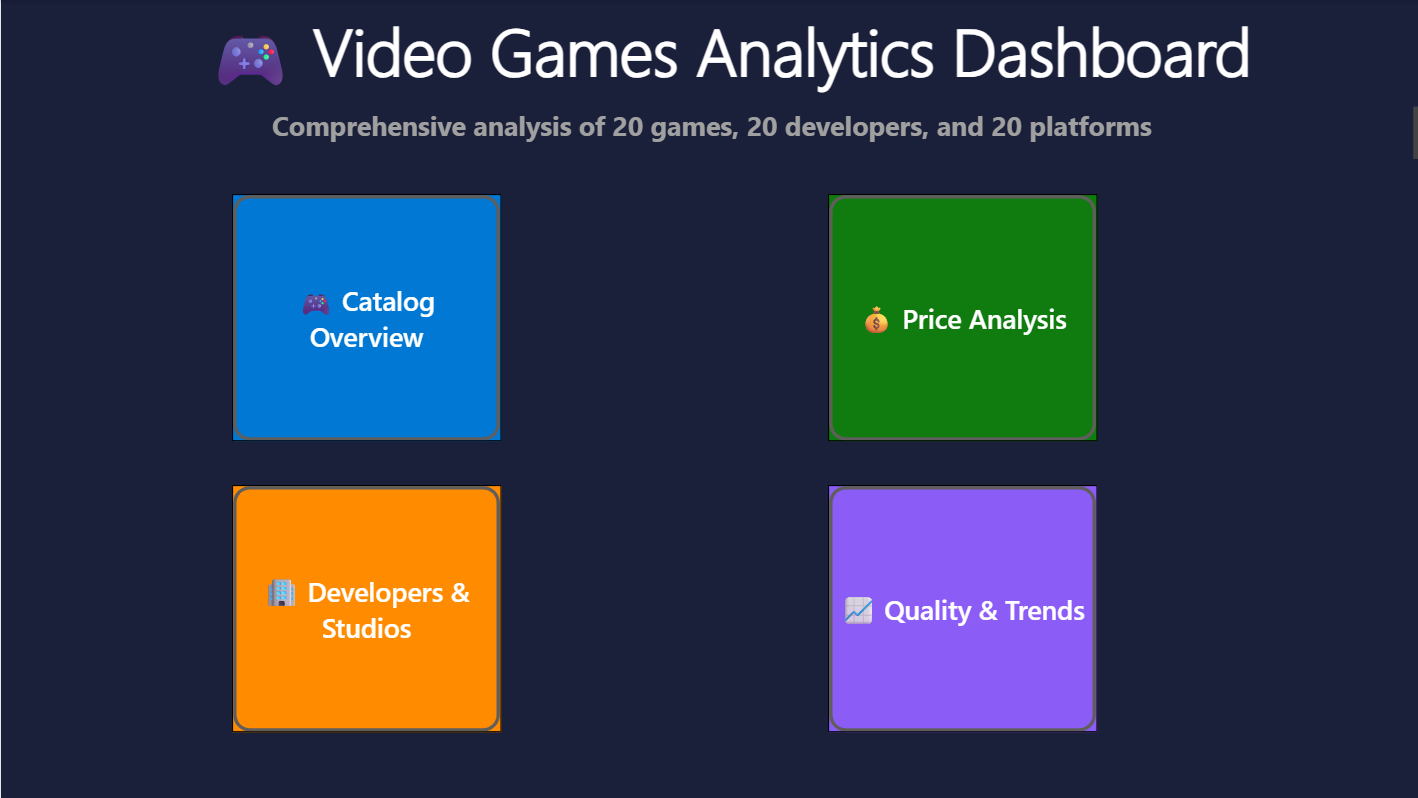

What the dashboard file says about the page in this screenshot:
{"tool":"powerbi","page":{"name":"HOME","canvas":[1280,720],"ordinal":0},"visuals":[{"type":"textbox","box":[9.6,0,1270.7,90.6],"z":0},{"type":"textbox","box":[9.6,90.6,1270.7,57.6],"z":1},{"type":"actionButton","box":[207.2,174.3,241.5,222.3],"z":2},{"type":"actionButton","box":[742.4,174.3,241.5,222.3],"z":3},{"type":"actionButton","box":[207.2,435,241.5,222.3],"z":4},{"type":"actionButton","box":[742.4,435,241.5,222.3],"z":5}]}

Visuals, with their boxes in screenshot pixels (x1, y1, x2, y2), scaled from the page's 1280x720 canvas onto the 1418x798 screenshot:
textbox: {"x1": 11, "y1": 0, "x2": 1417, "y2": 100}
textbox: {"x1": 11, "y1": 100, "x2": 1417, "y2": 164}
actionButton: {"x1": 230, "y1": 193, "x2": 497, "y2": 440}
actionButton: {"x1": 822, "y1": 193, "x2": 1090, "y2": 440}
actionButton: {"x1": 230, "y1": 482, "x2": 497, "y2": 729}
actionButton: {"x1": 822, "y1": 482, "x2": 1090, "y2": 729}
